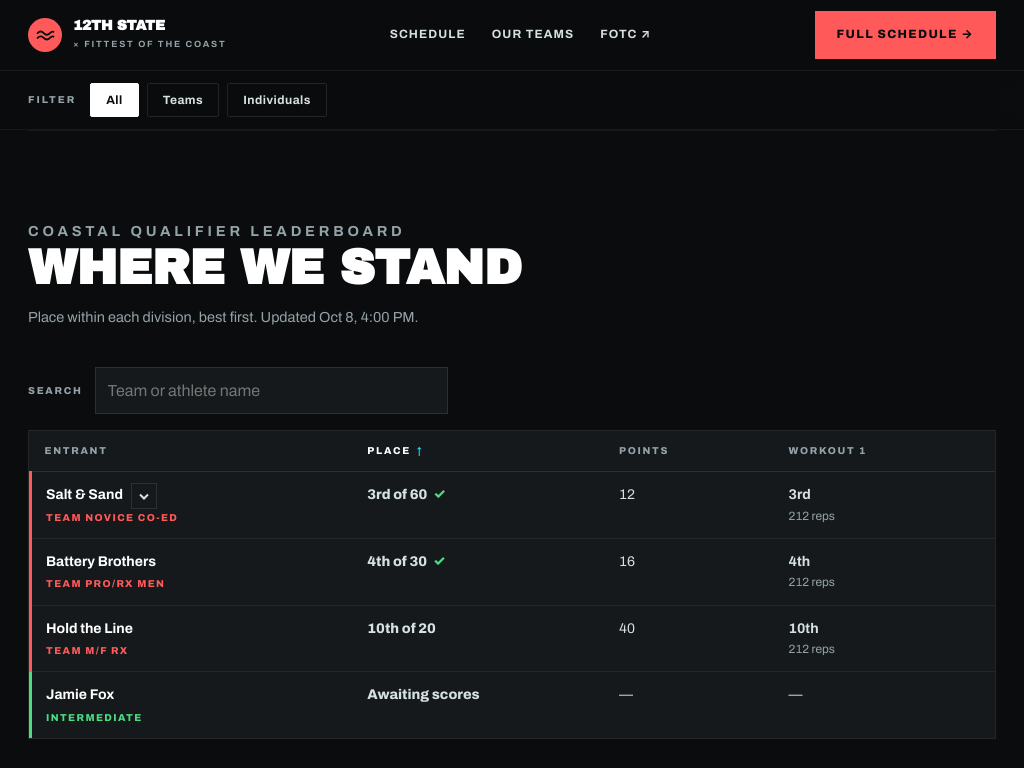
Scenario: Road to Charleston › expands a team's row to show each athlete's own score on every workout
Expected: the row "Avery Bowen" is not shown
Click the button named "show athletes for salt & sand": x=144, y=496 x1=131 y1=483 x2=157 y2=509
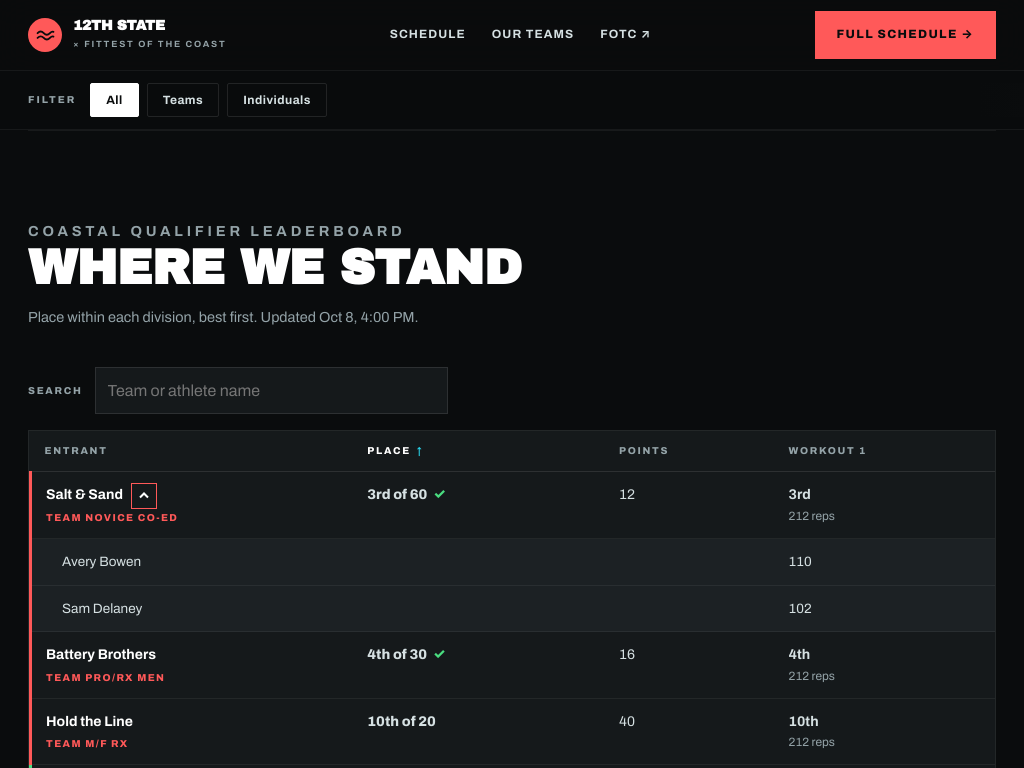
Expected: the button named "show athletes for salt & sand" is expanded, x1=131 y1=483 x2=157 y2=509
Expected: the text "110" is shown, x1=775 y1=538 x2=995 y2=585
Expected: the text "102" is shown, x1=775 y1=585 x2=995 y2=632
